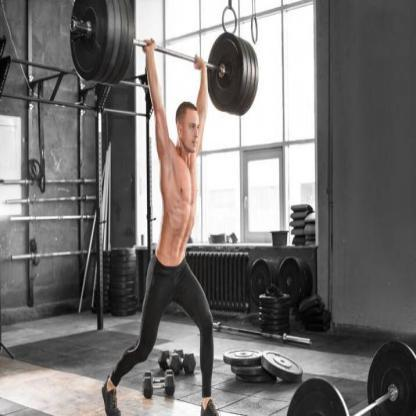Barbell: (70, 19, 78, 35)
